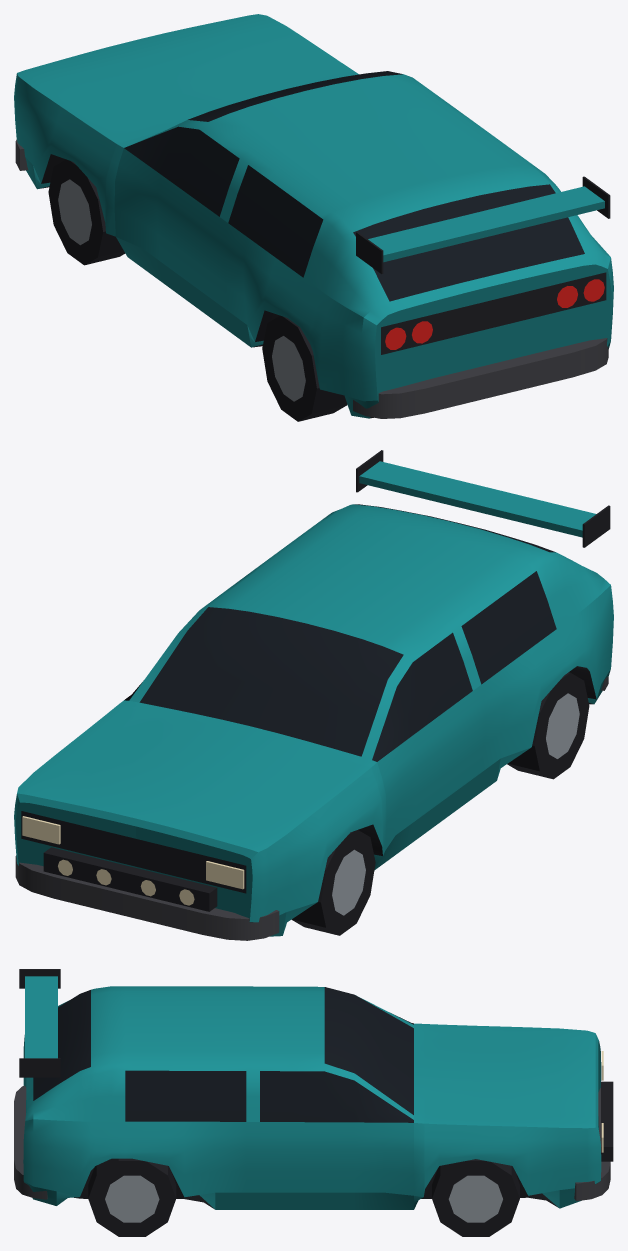
Rendered from kestrel_rs_lod1.glb.
3 renders of one model, top to bottom at view 1: azimuth 30°, elevation 25°; view 2: azimuth 150°, elevation 25°; view 3: azimuth 270°, elevation 25°, orthographic. The views are drawn at different scales.
Visible parts, largest first — view 1: Body; view 2: Body; view 3: Body.
Boxes of the visible parts, <box> form: Body: <box>14,14,613,421</box>; Body: <box>14,450,613,940</box>; Body: <box>14,969,613,1236</box>.
Size of the model in its own units: 1.88 by 1.36 by 4.36.
